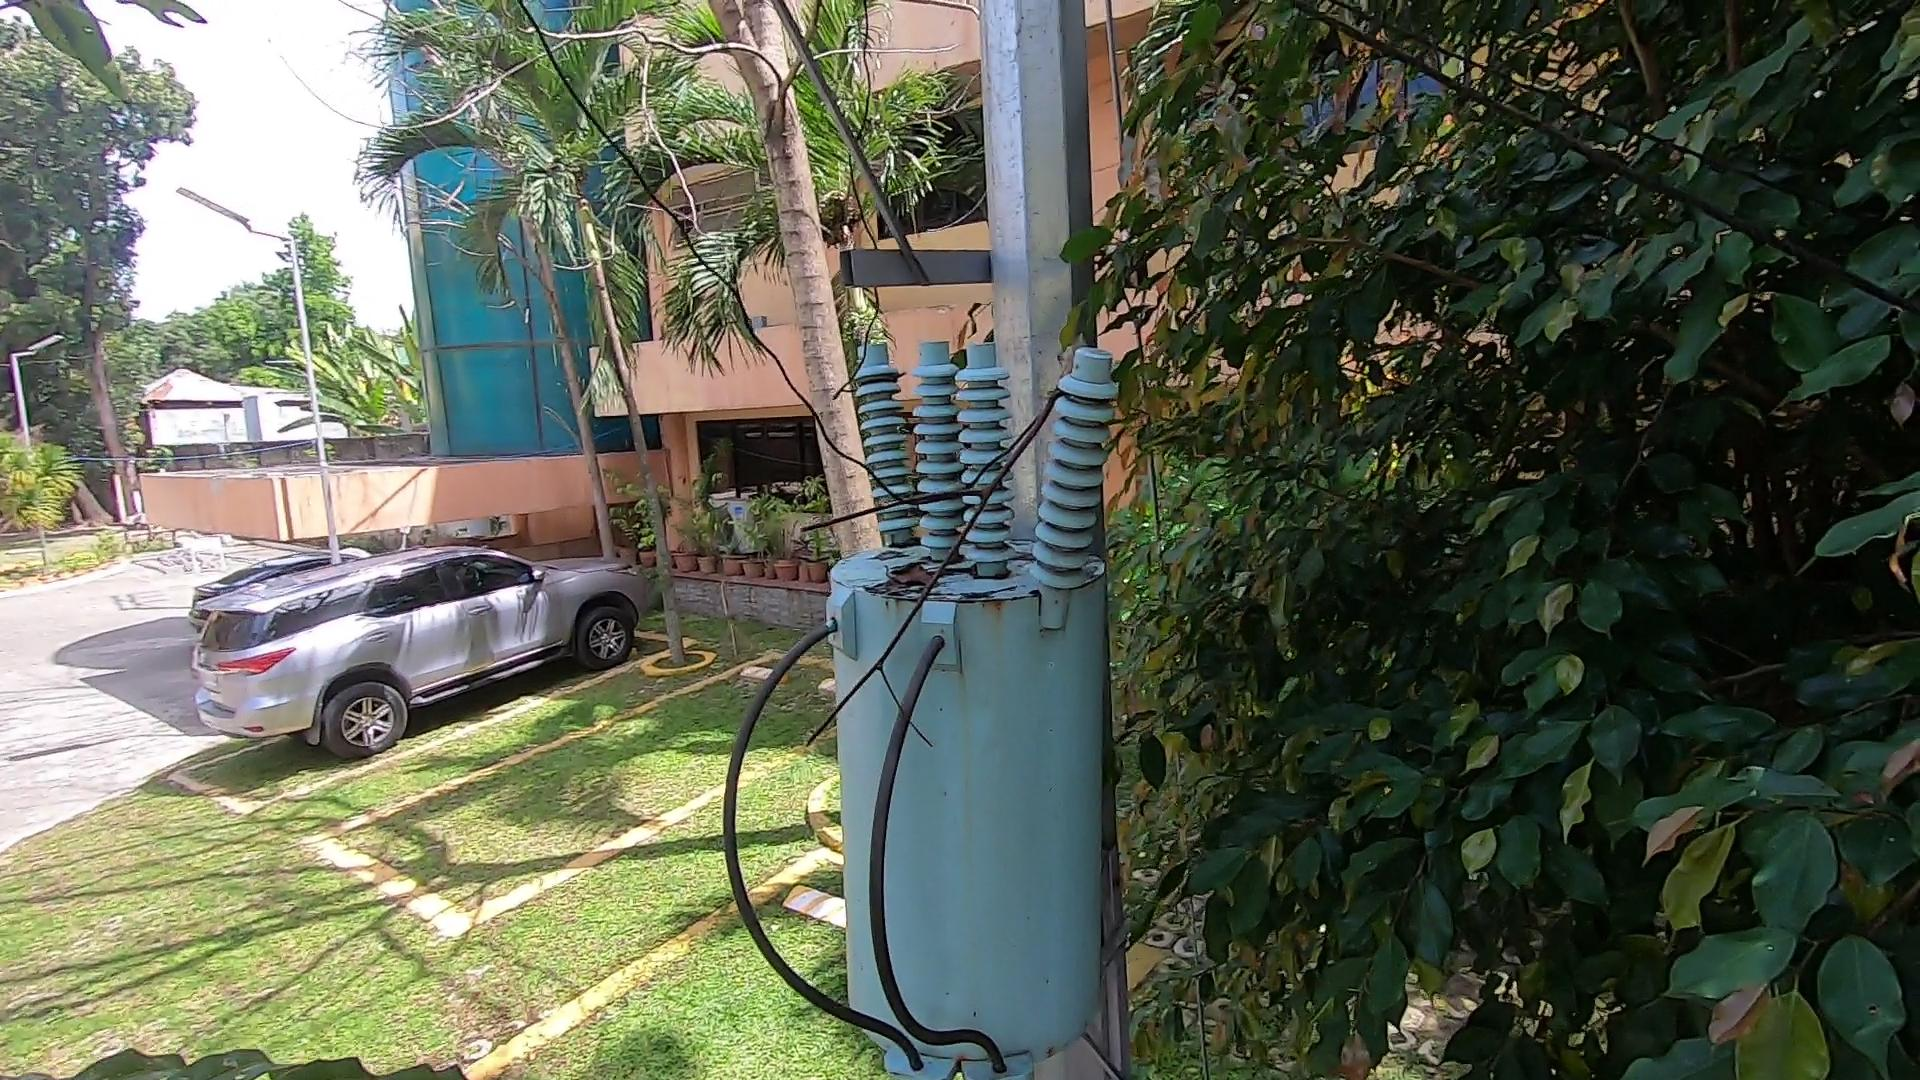leaf: (866, 550, 961, 615)
tree branch: (786, 352, 1101, 762)
